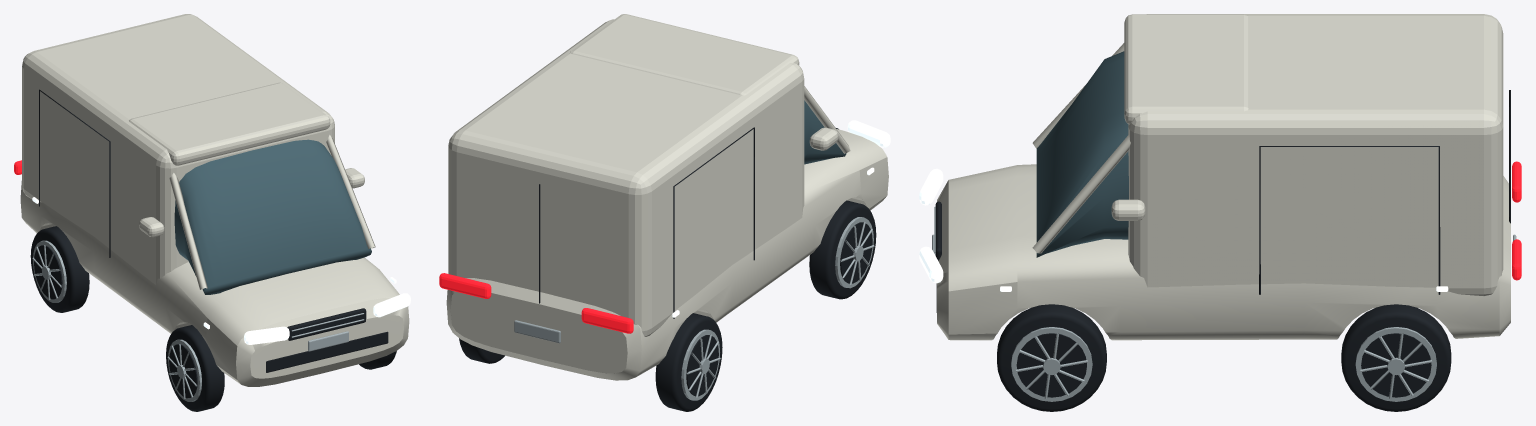
The model's file is car-2.glb.
3 views of the same model, side by side, from view 1: azimuth 30°, elevation 25°; view 2: azimuth 150°, elevation 25°; view 3: azimuth 270°, elevation 25° (orthographic). The views are drawn at different scales.
Parts seen in each view (by area): view 1: Paint, Tinted glazing, Tyres and trim, Machined alloy, Headlight lens; view 2: Paint, Tyres and trim, Machined alloy, Rear LED, Tinted glazing, Headlight lens; view 3: Paint, Tyres and trim, Tinted glazing, Machined alloy, Headlight lens, Rear LED.
Part boxes in pixels (bbox=[...]): Paint: bbox=[20, 14, 409, 386]; Tinted glazing: bbox=[174, 139, 371, 294]; Tyres and trim: bbox=[30, 89, 396, 411]; Machined alloy: bbox=[32, 240, 364, 401]; Headlight lens: bbox=[32, 197, 410, 344]; Paint: bbox=[446, 14, 888, 380]; Tyres and trim: bbox=[459, 127, 876, 411]; Machined alloy: bbox=[514, 217, 874, 400]; Rear LED: bbox=[439, 273, 633, 333]; Tinted glazing: bbox=[804, 100, 846, 164]; Headlight lens: bbox=[672, 120, 890, 317]; Paint: bbox=[937, 14, 1510, 340]; Tyres and trim: bbox=[935, 90, 1510, 411]; Tinted glazing: bbox=[1036, 51, 1128, 257]; Machined alloy: bbox=[932, 206, 1516, 401]; Headlight lens: bbox=[919, 168, 1448, 291]; Rear LED: bbox=[1512, 161, 1521, 280].
Bounding box in the file's own units: 0.4 × 0.4055 × 0.7555.
